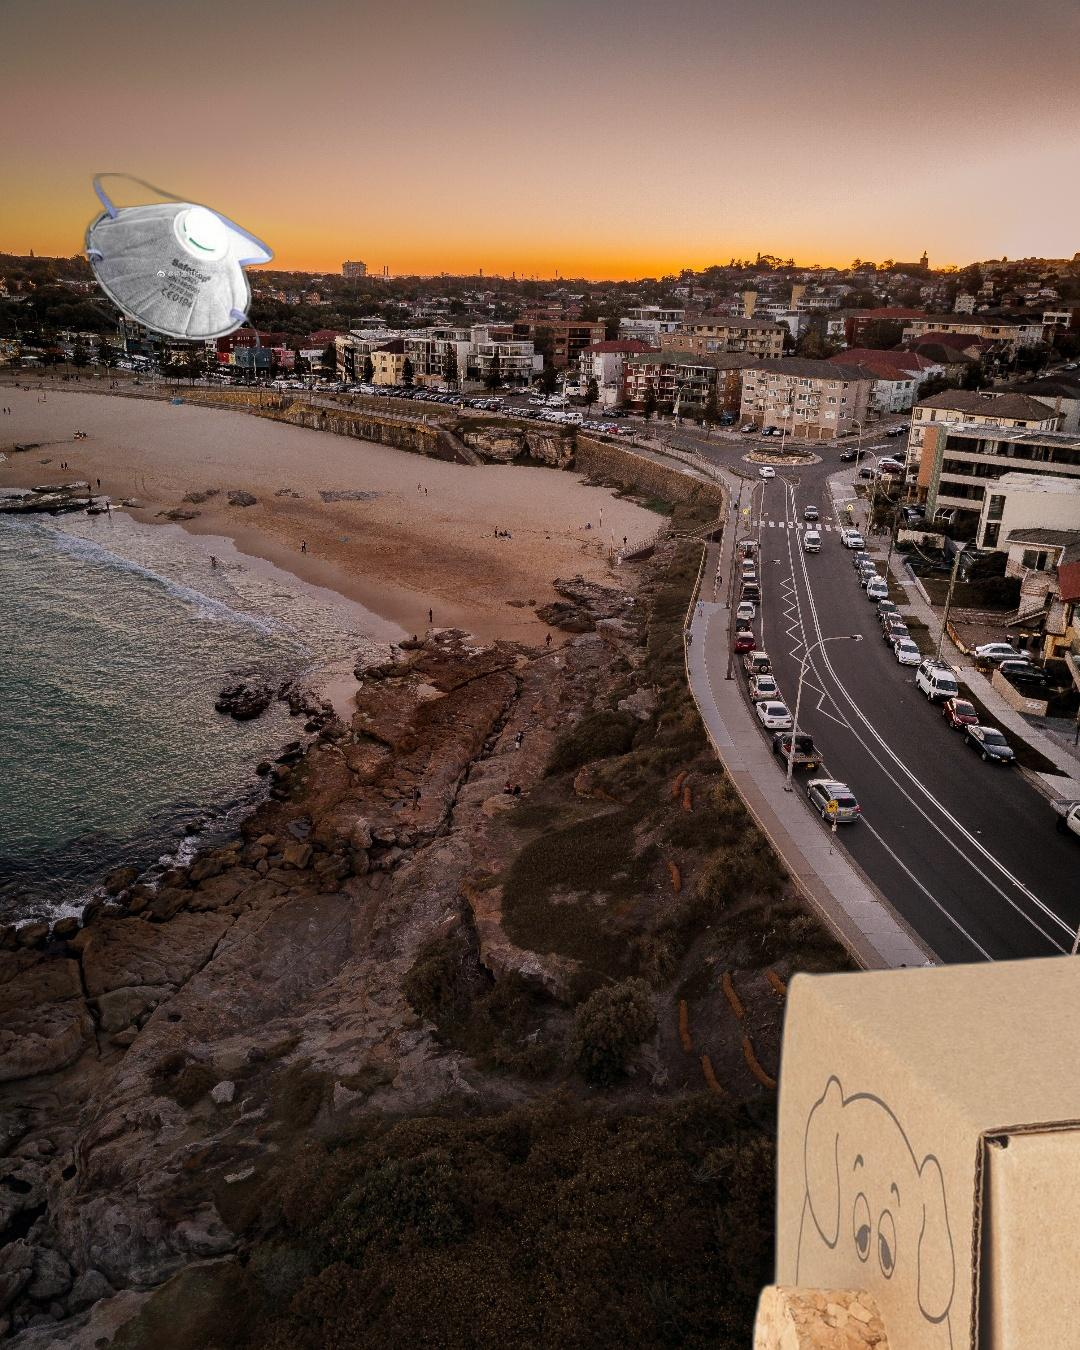trash: (62, 173, 277, 374)
trashbox-cardboard: (742, 909, 1080, 1350)
